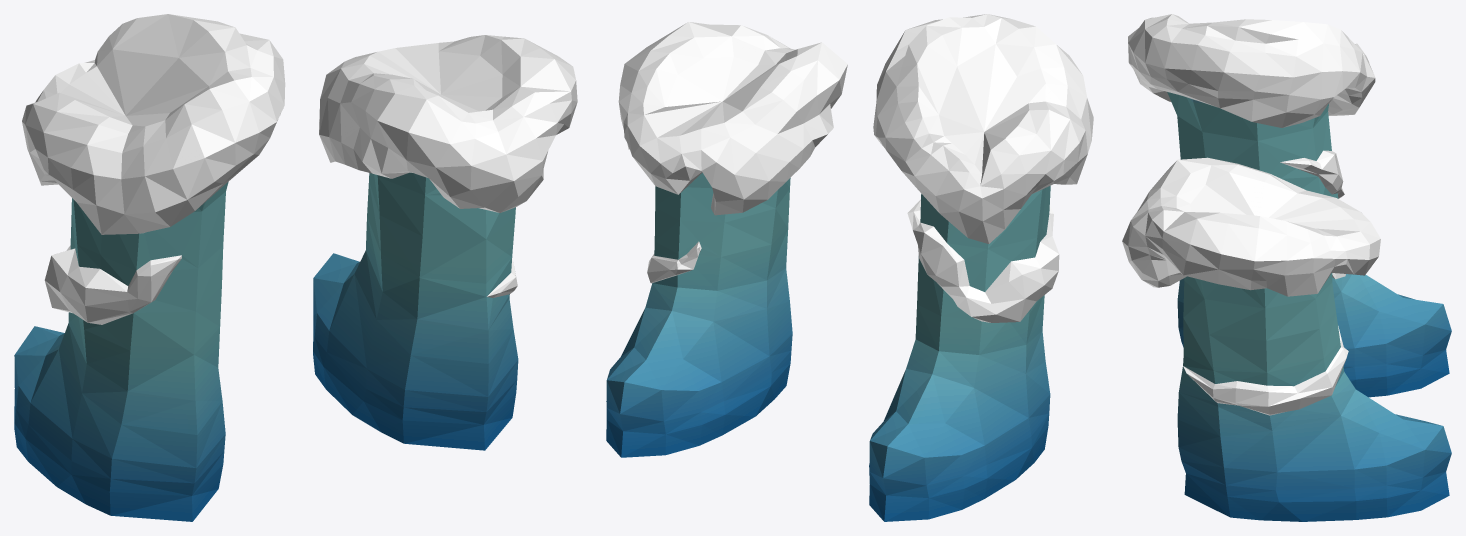
Rendered from CharSkyKid_Feet_SeaFoam.glb.
3 views of the same model, side by side, from view 1: azimuth 30°, elevation 25°; view 2: azimuth 150°, elevation 25°; view 3: azimuth 270°, elevation 25° (orthographic). The views are drawn at different scales.
Parts seen in each view (by area): view 1: CharSkyKid_Feet_SeaFoam; view 2: CharSkyKid_Feet_SeaFoam; view 3: CharSkyKid_Feet_SeaFoam.
Boxes of the visible parts, box(x1,y1,x2,y2) form: CharSkyKid_Feet_SeaFoam: box(14, 14, 577, 521); CharSkyKid_Feet_SeaFoam: box(606, 14, 1093, 521); CharSkyKid_Feet_SeaFoam: box(1122, 14, 1451, 521).
Bounding box in the file's own units: 3.17 × 2.73 × 2.14.
Materials: 1 (1 with a texture image).
